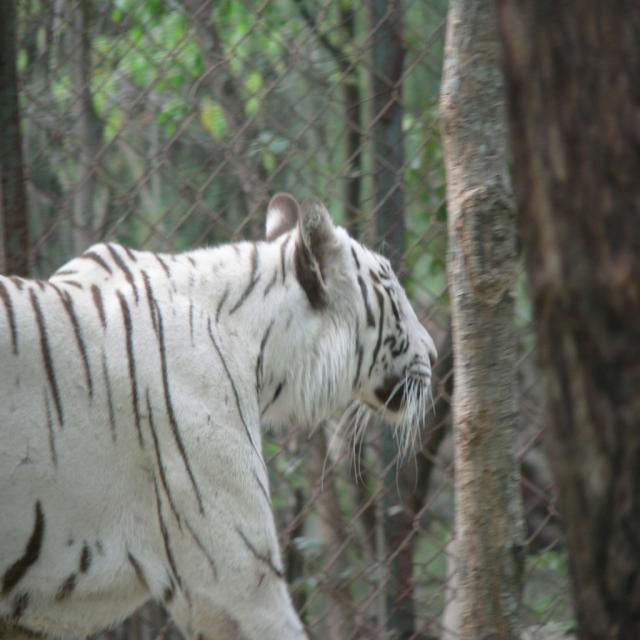Tiger: (0, 196, 437, 640)
